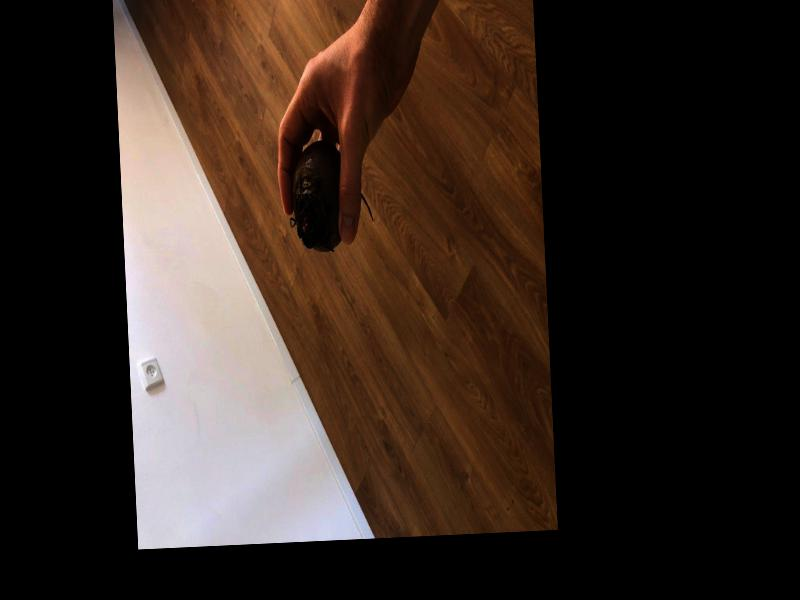Beet: (288, 139, 374, 254)
